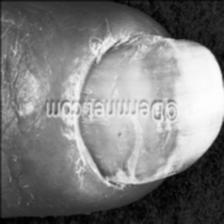Toxin: (81, 23, 165, 61), (100, 166, 160, 182)
